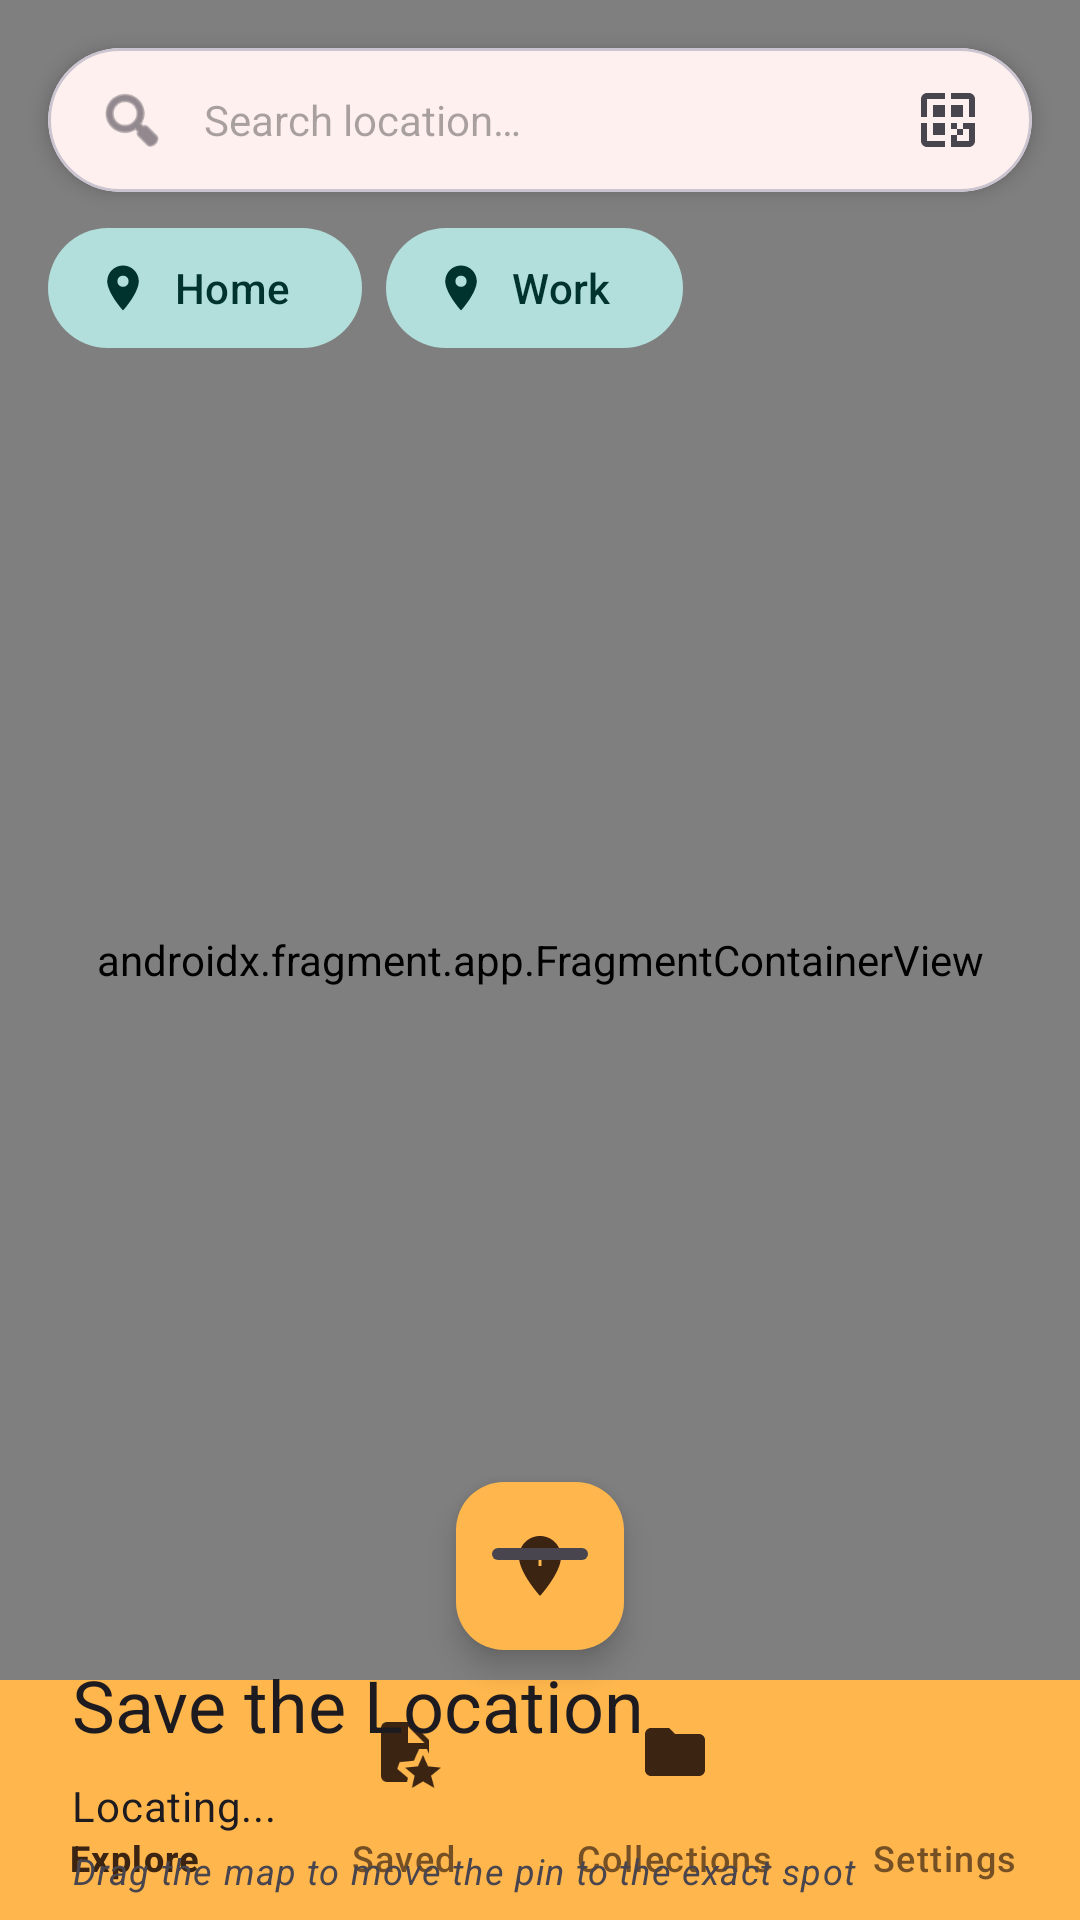

Named icons in this screenshot (1080×1920) and their bounding boxes, (x1, y1, x2, y2):
Save current location: (456, 1482, 624, 1650)
Scan QR Code: (921, 93, 975, 147)
